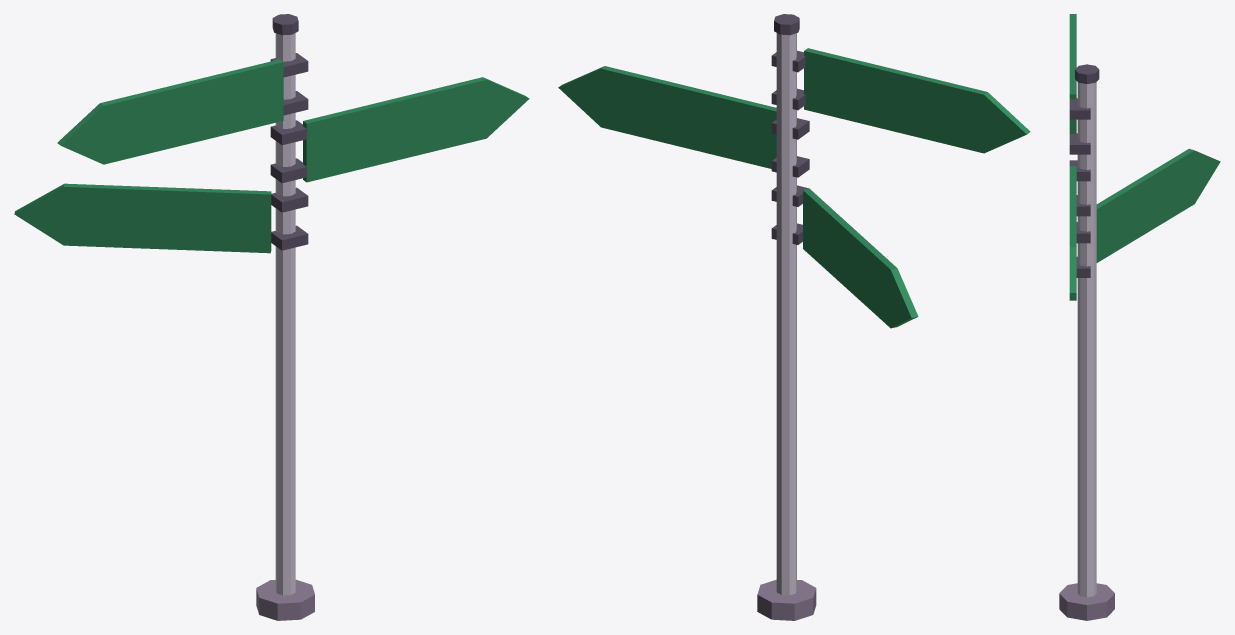
Rendered from signpost.glb.
The picture shows the model from 3 angles, left to right: view 1: azimuth 30°, elevation 25°; view 2: azimuth 150°, elevation 25°; view 3: azimuth 270°, elevation 25°; orthographic projection. The views are drawn at different scales.
Parts seen in each view (by area): view 1: signpost, sign_2, sign_0, sign_1; view 2: signpost, sign_0, sign_1, sign_2; view 3: signpost, sign_2, sign_1, sign_0.
Part boxes in pixels (x1,y1,x2,y2): signpost: (256,14,314,620); sign_2: (14,183,271,253); sign_0: (57,59,283,164); sign_1: (303,77,529,182); signpost: (757,14,816,620); sign_0: (804,48,1030,153); sign_1: (558,66,776,168); sign_2: (803,188,918,328); signpost: (1059,64,1114,620); sign_2: (1096,148,1220,262); sign_1: (1069,166,1076,300); sign_0: (1069,14,1076,133).
Bounding box in the file's own units: 2.84 × 3.41 × 0.9253.
